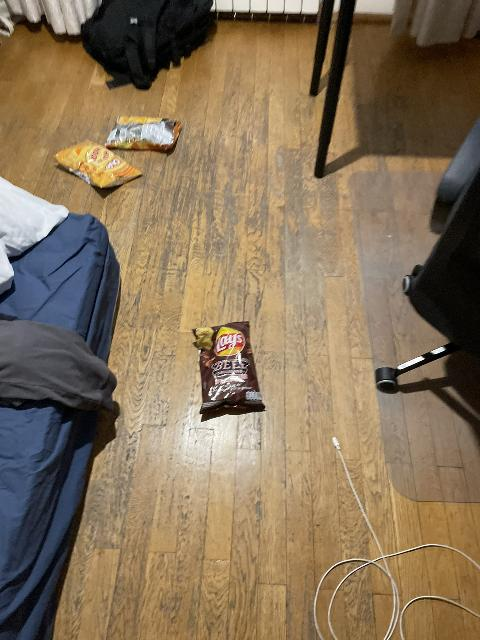Chio Cascaval 125g: (105, 116, 181, 153)
Chio Hula Hoops Cheese 70g: (53, 139, 144, 189)
Lays Beef Grilled Ribs 125g: (193, 320, 269, 415)
